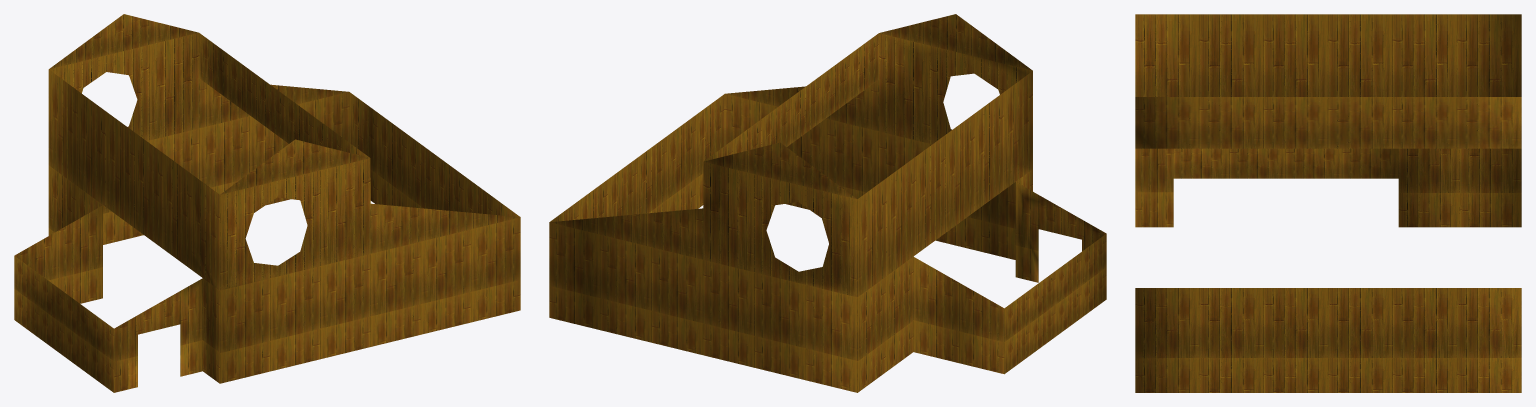
The model's file is HTOWN01_MILLEXT.fbx.
The picture shows the model from 3 angles, left to right: view 1: azimuth 30°, elevation 25°; view 2: azimuth 150°, elevation 25°; view 3: azimuth 270°, elevation 25°; orthographic projection. The views are drawn at different scales.
Parts seen in each view (by area): view 1: HTOWN01_MILLEXT; view 2: HTOWN01_MILLEXT; view 3: HTOWN01_MILLEXT.
Boxes of the visible parts, left/top/right/bottom form: HTOWN01_MILLEXT: left=14, top=14, right=520, bottom=392; HTOWN01_MILLEXT: left=549, top=14, right=1106, bottom=392; HTOWN01_MILLEXT: left=1135, top=14, right=1521, bottom=392.
Size of the model in its own units: 171612 by 95133 by 130709.
Materials: 1 (1 with a texture image).
